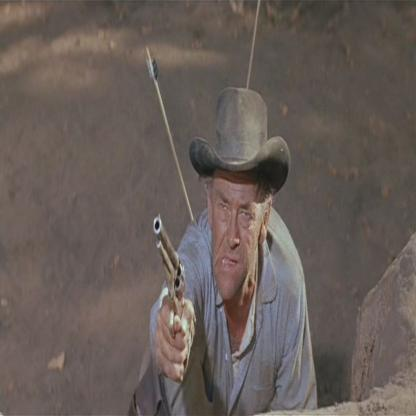gun: (147, 184, 195, 337)
